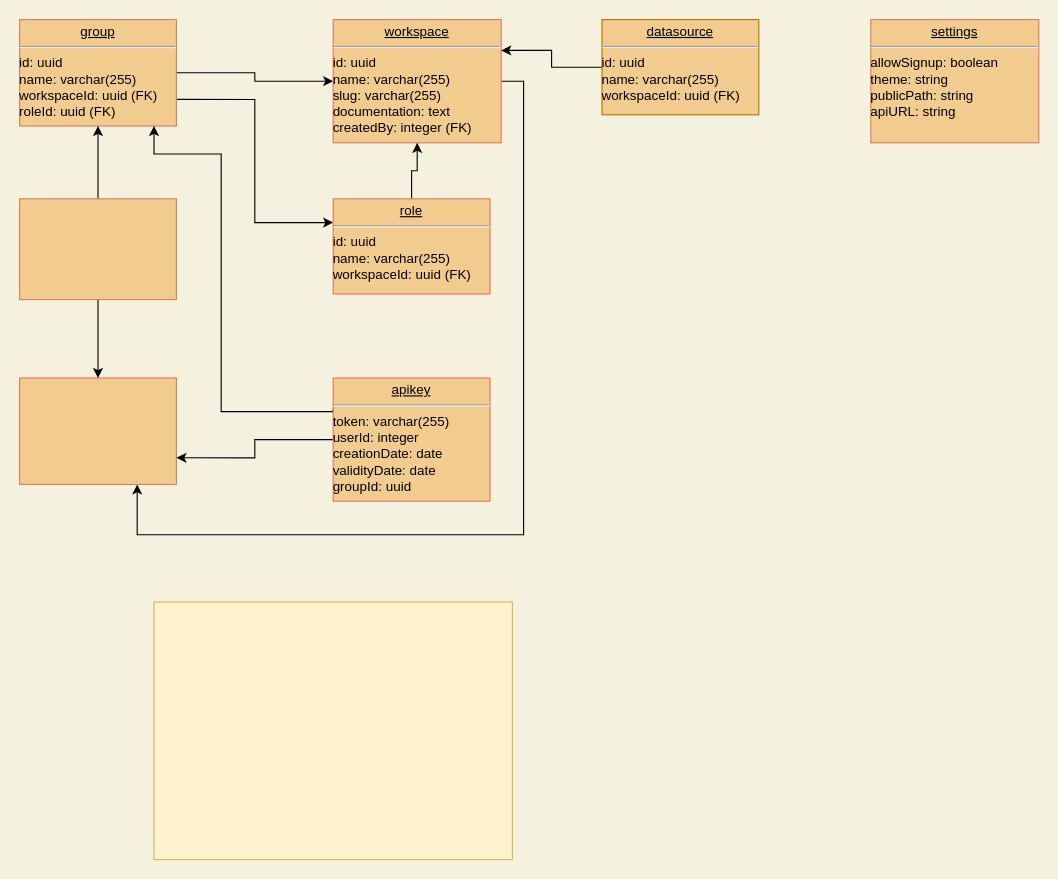
Some shapes in this 1058 by 879 pixel diagram are drawn without their labels. Each missing label, with the box of its shape:
Notes This schema is the "core" schema of LocoKit.: (153, 601, 512, 860)
user id: integer name: varchar(255) email: varchar(255): (18, 377, 176, 484)
userGroup userId: integer groupId: uuid role: MEMBER | OWNER: (18, 198, 176, 300)
